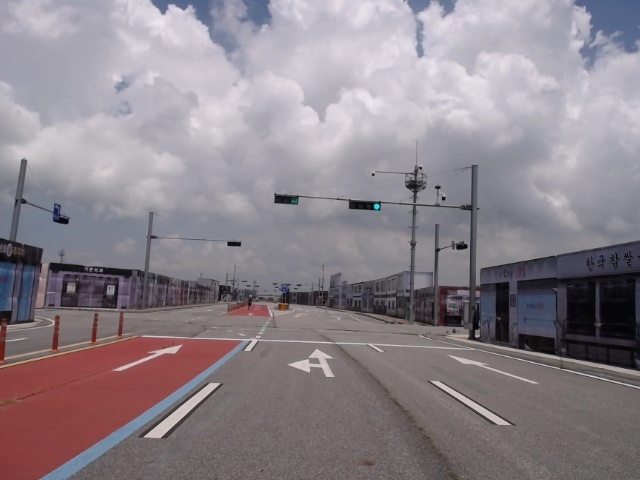straight_green_4: (349, 199, 381, 213)
